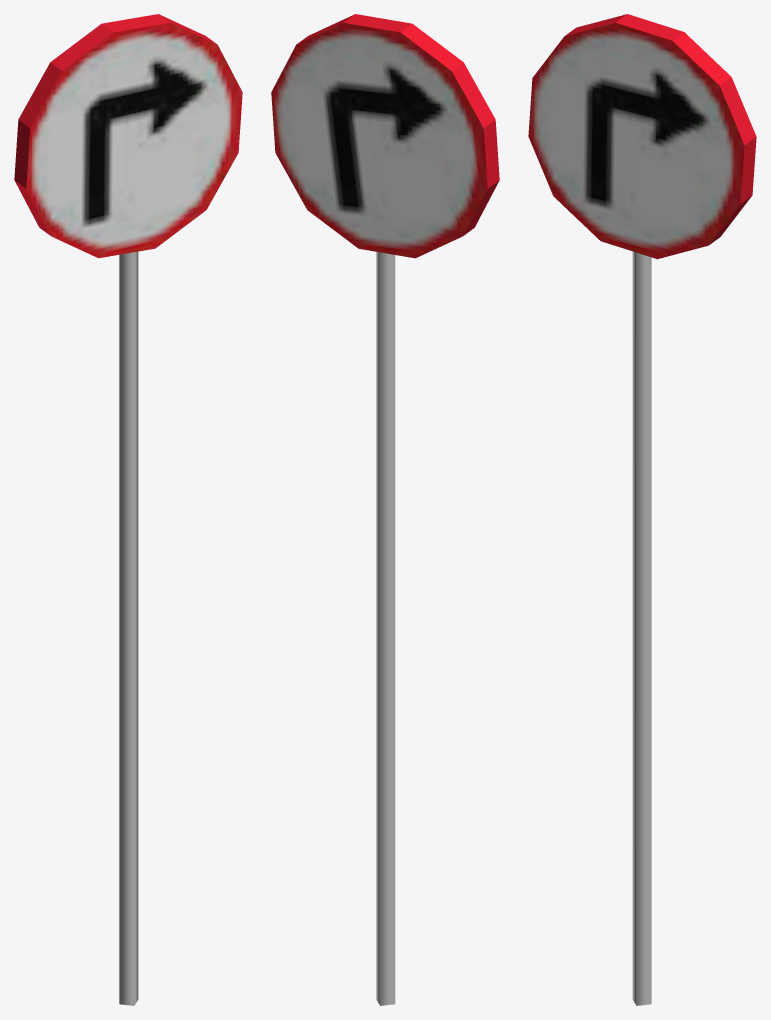
The model's file is Corner sign.fbx.
3 views of the same model, side by side, from view 1: azimuth 30°, elevation 25°; view 2: azimuth 150°, elevation 25°; view 3: azimuth 330°, elevation 25° (orthographic).
Visible parts, largest first — view 1: corner sign; view 2: corner sign; view 3: corner sign.
Part boxes in pixels (left/top/right/bottom): corner sign: left=14, top=14, right=242, bottom=1005; corner sign: left=271, top=14, right=499, bottom=1005; corner sign: left=528, top=14, right=756, bottom=1005.
Size of the model in its own units: 7.38 by 31.89 by 0.7061.
